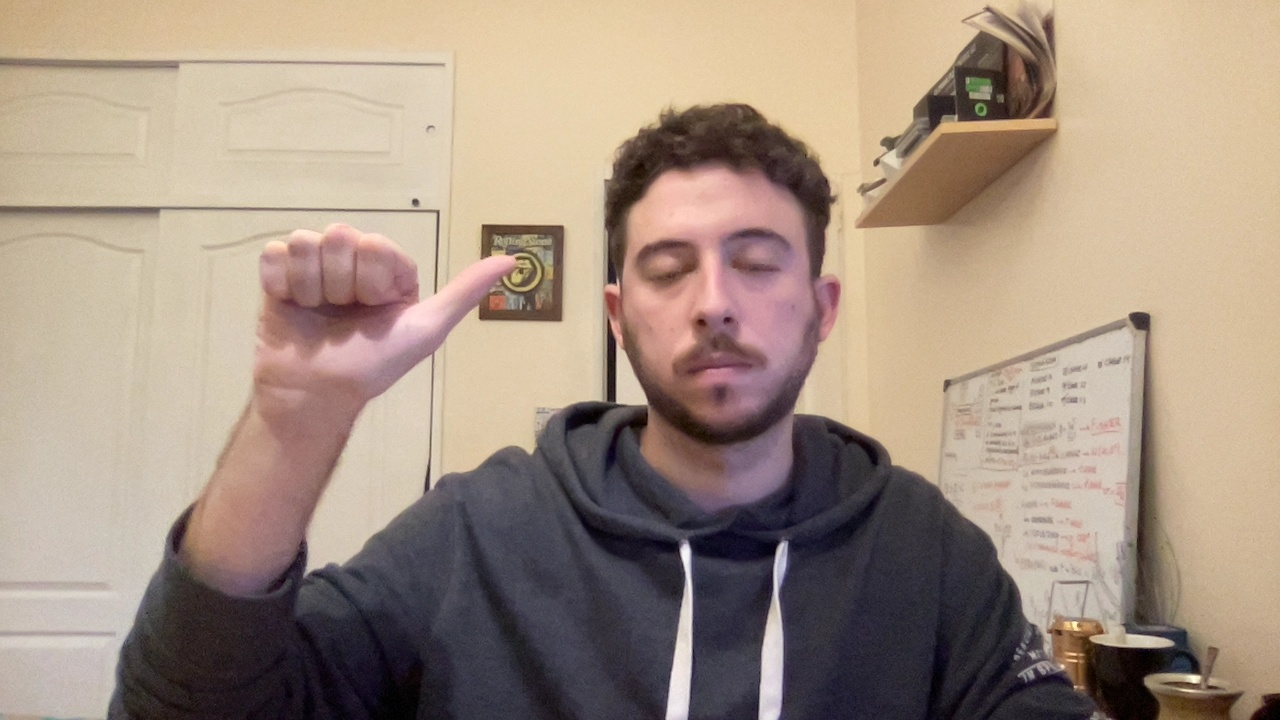pulgar: (220, 197, 536, 442)
